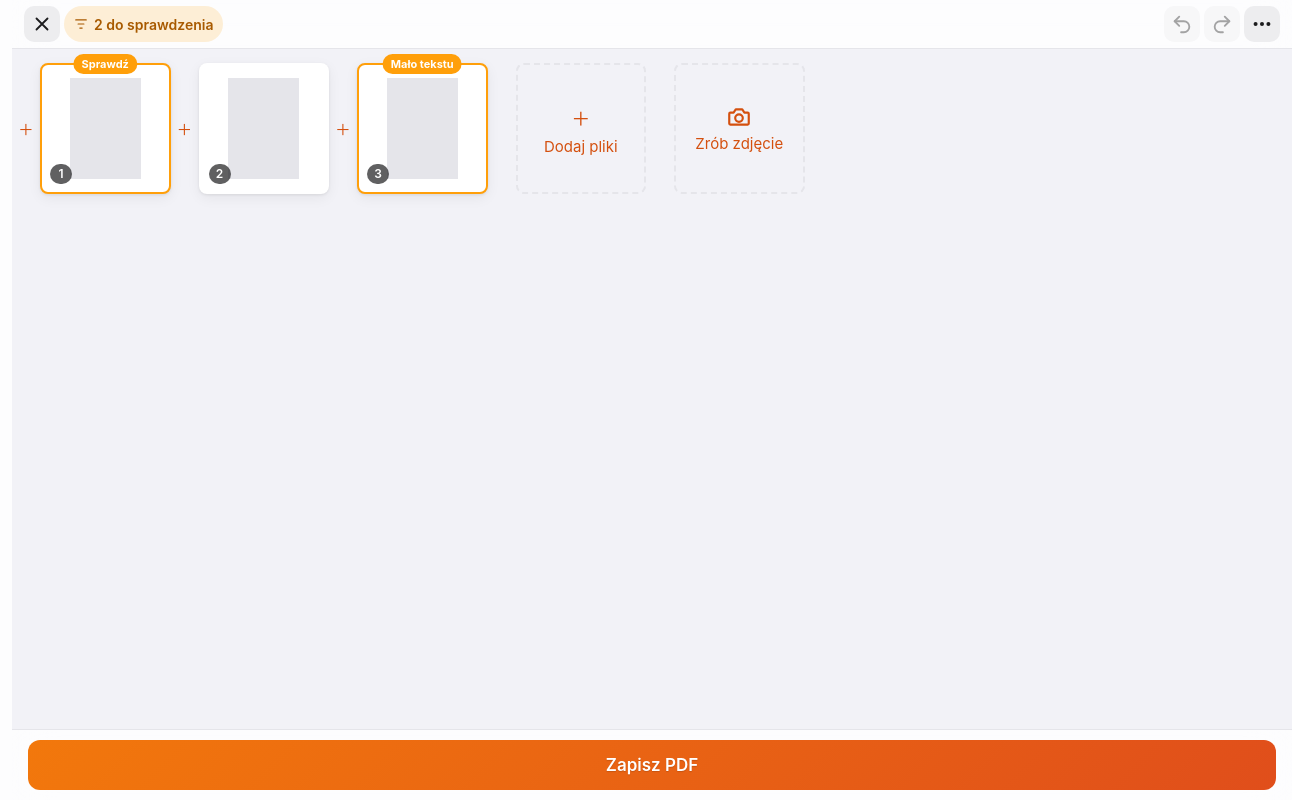
Scenario: review grid › tapping every flagged page (incl. low-text) brings the counter to 0
Click the button with aria-label "Pokaż tylko te". click: [144, 24]
box: left=64, top=6, right=223, bottom=42
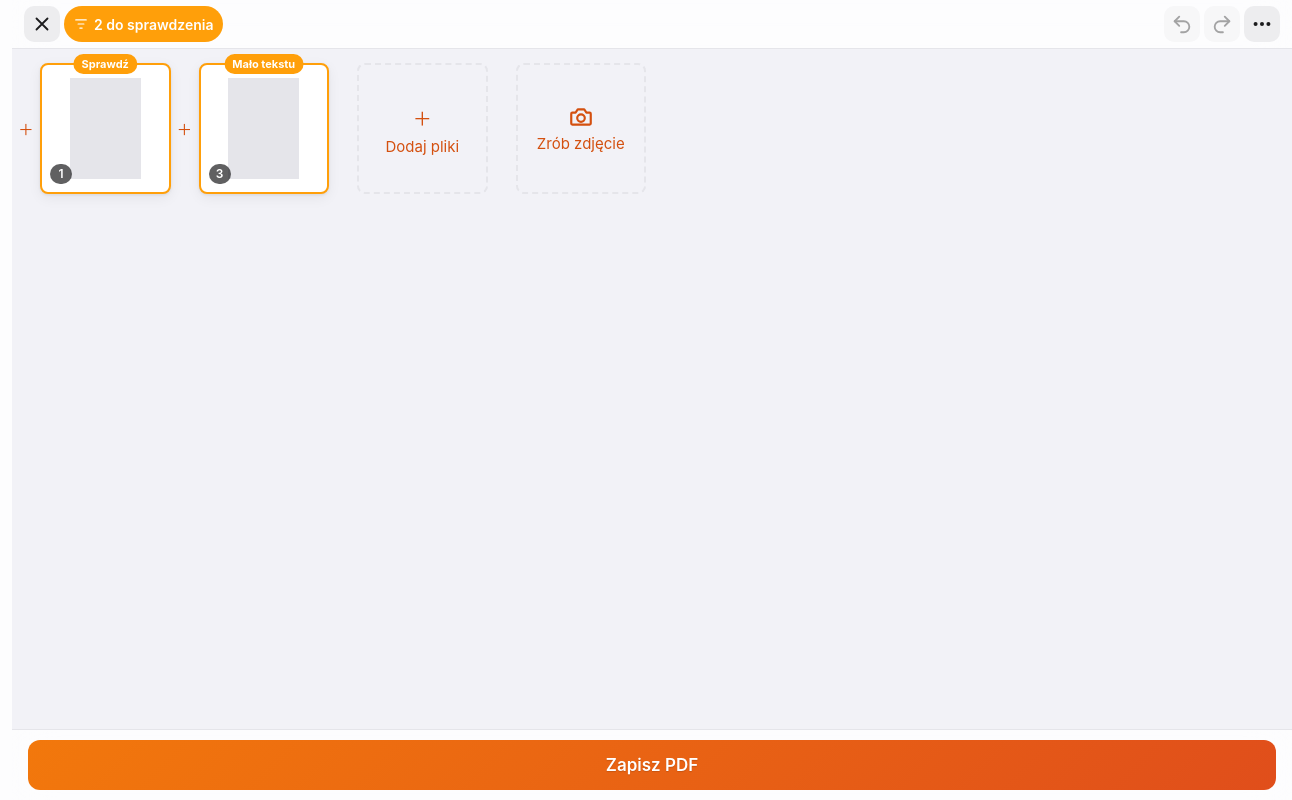
Click the button "1 Sprawdź". click: [105, 128]
box: left=40, top=63, right=170, bottom=194
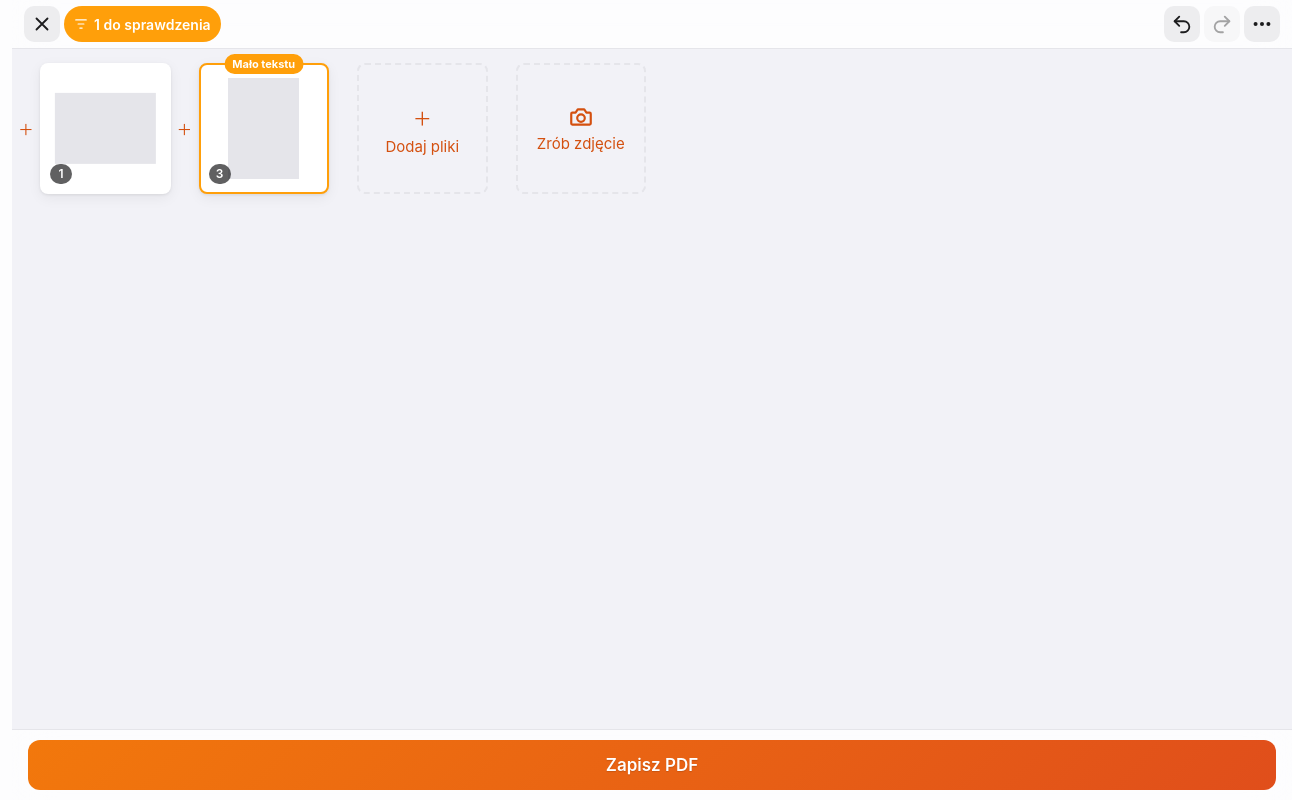
Click the button "3 Mało tekstu". click: [264, 128]
box: left=198, top=63, right=329, bottom=194
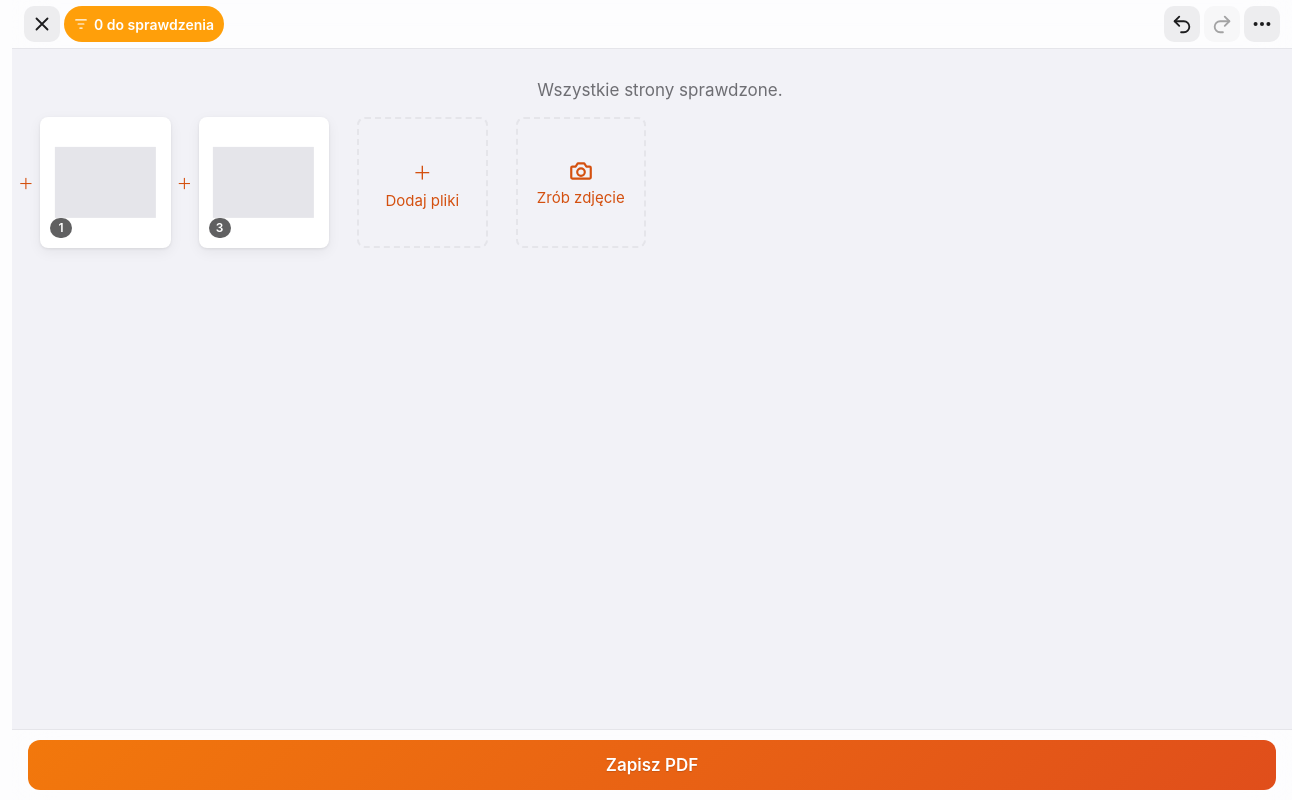
Now the number of buttons "1" is 2, box left=40, top=117, right=170, bottom=248; left=198, top=117, right=329, bottom=248
Now the text "0 do sprawdzenia" is shown, box left=94, top=16, right=214, bottom=32
Now the text "Wszystkie strony sprawdzone." is shown, box left=537, top=80, right=783, bottom=100
